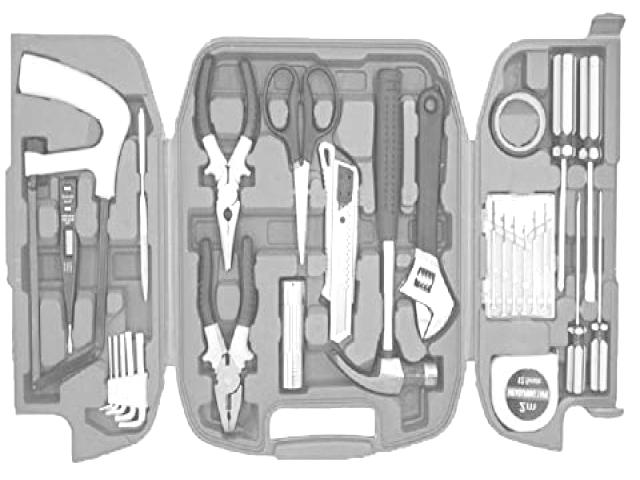Adjustable spanner: (400, 88, 454, 340)
Backsaw: (18, 54, 131, 391)
Hammer: (332, 70, 438, 394)
Needle-nose pliers: (194, 55, 260, 271)
Pliers: (198, 237, 258, 433)
Screwdriver: (578, 54, 604, 302), (551, 53, 576, 292), (565, 193, 586, 395), (590, 191, 609, 392)
Tape measure: (491, 352, 559, 433)
Utility knife: (319, 142, 359, 343)
